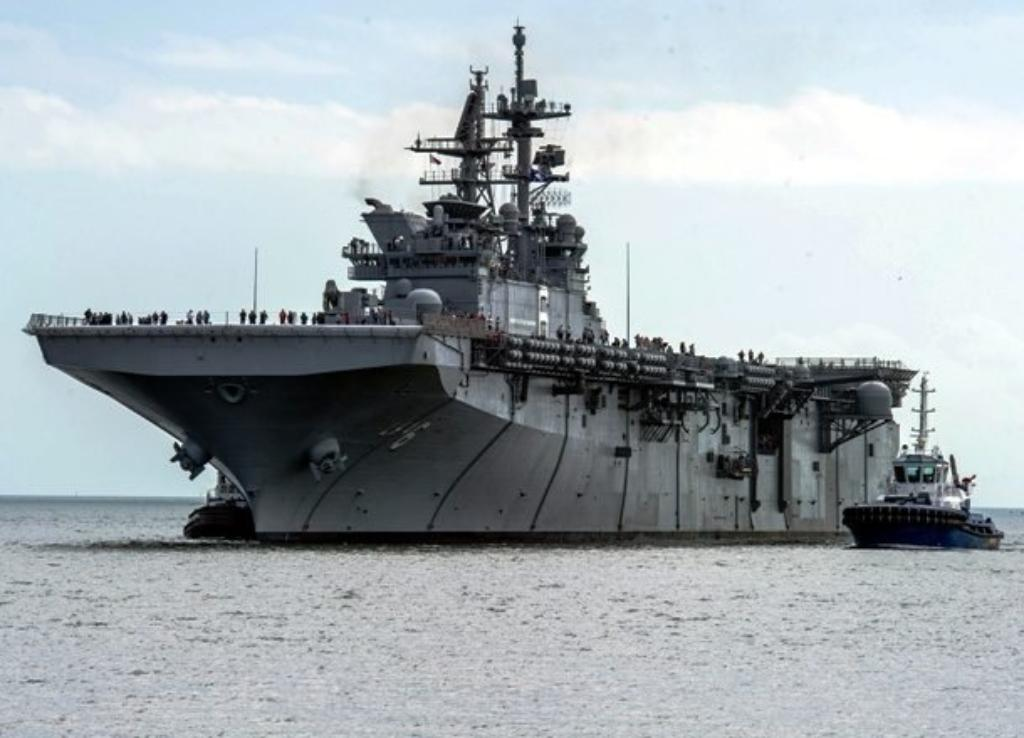Warship: (18, 75, 920, 552)
